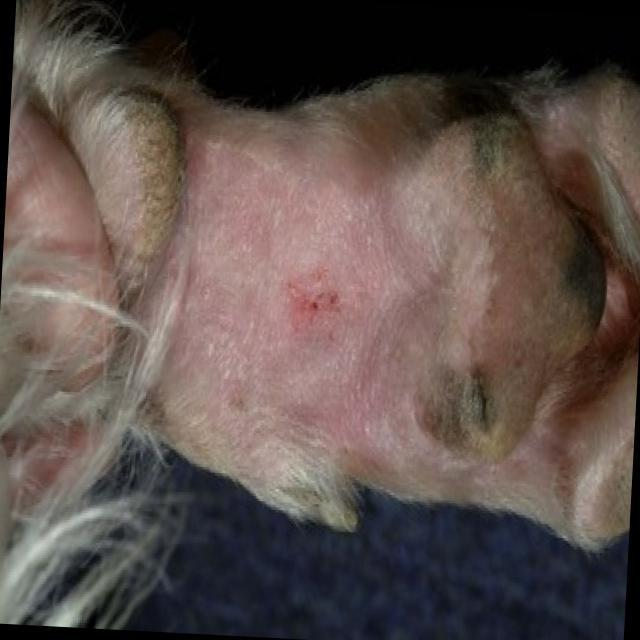allergic dermatitis: (158, 131, 444, 473)
